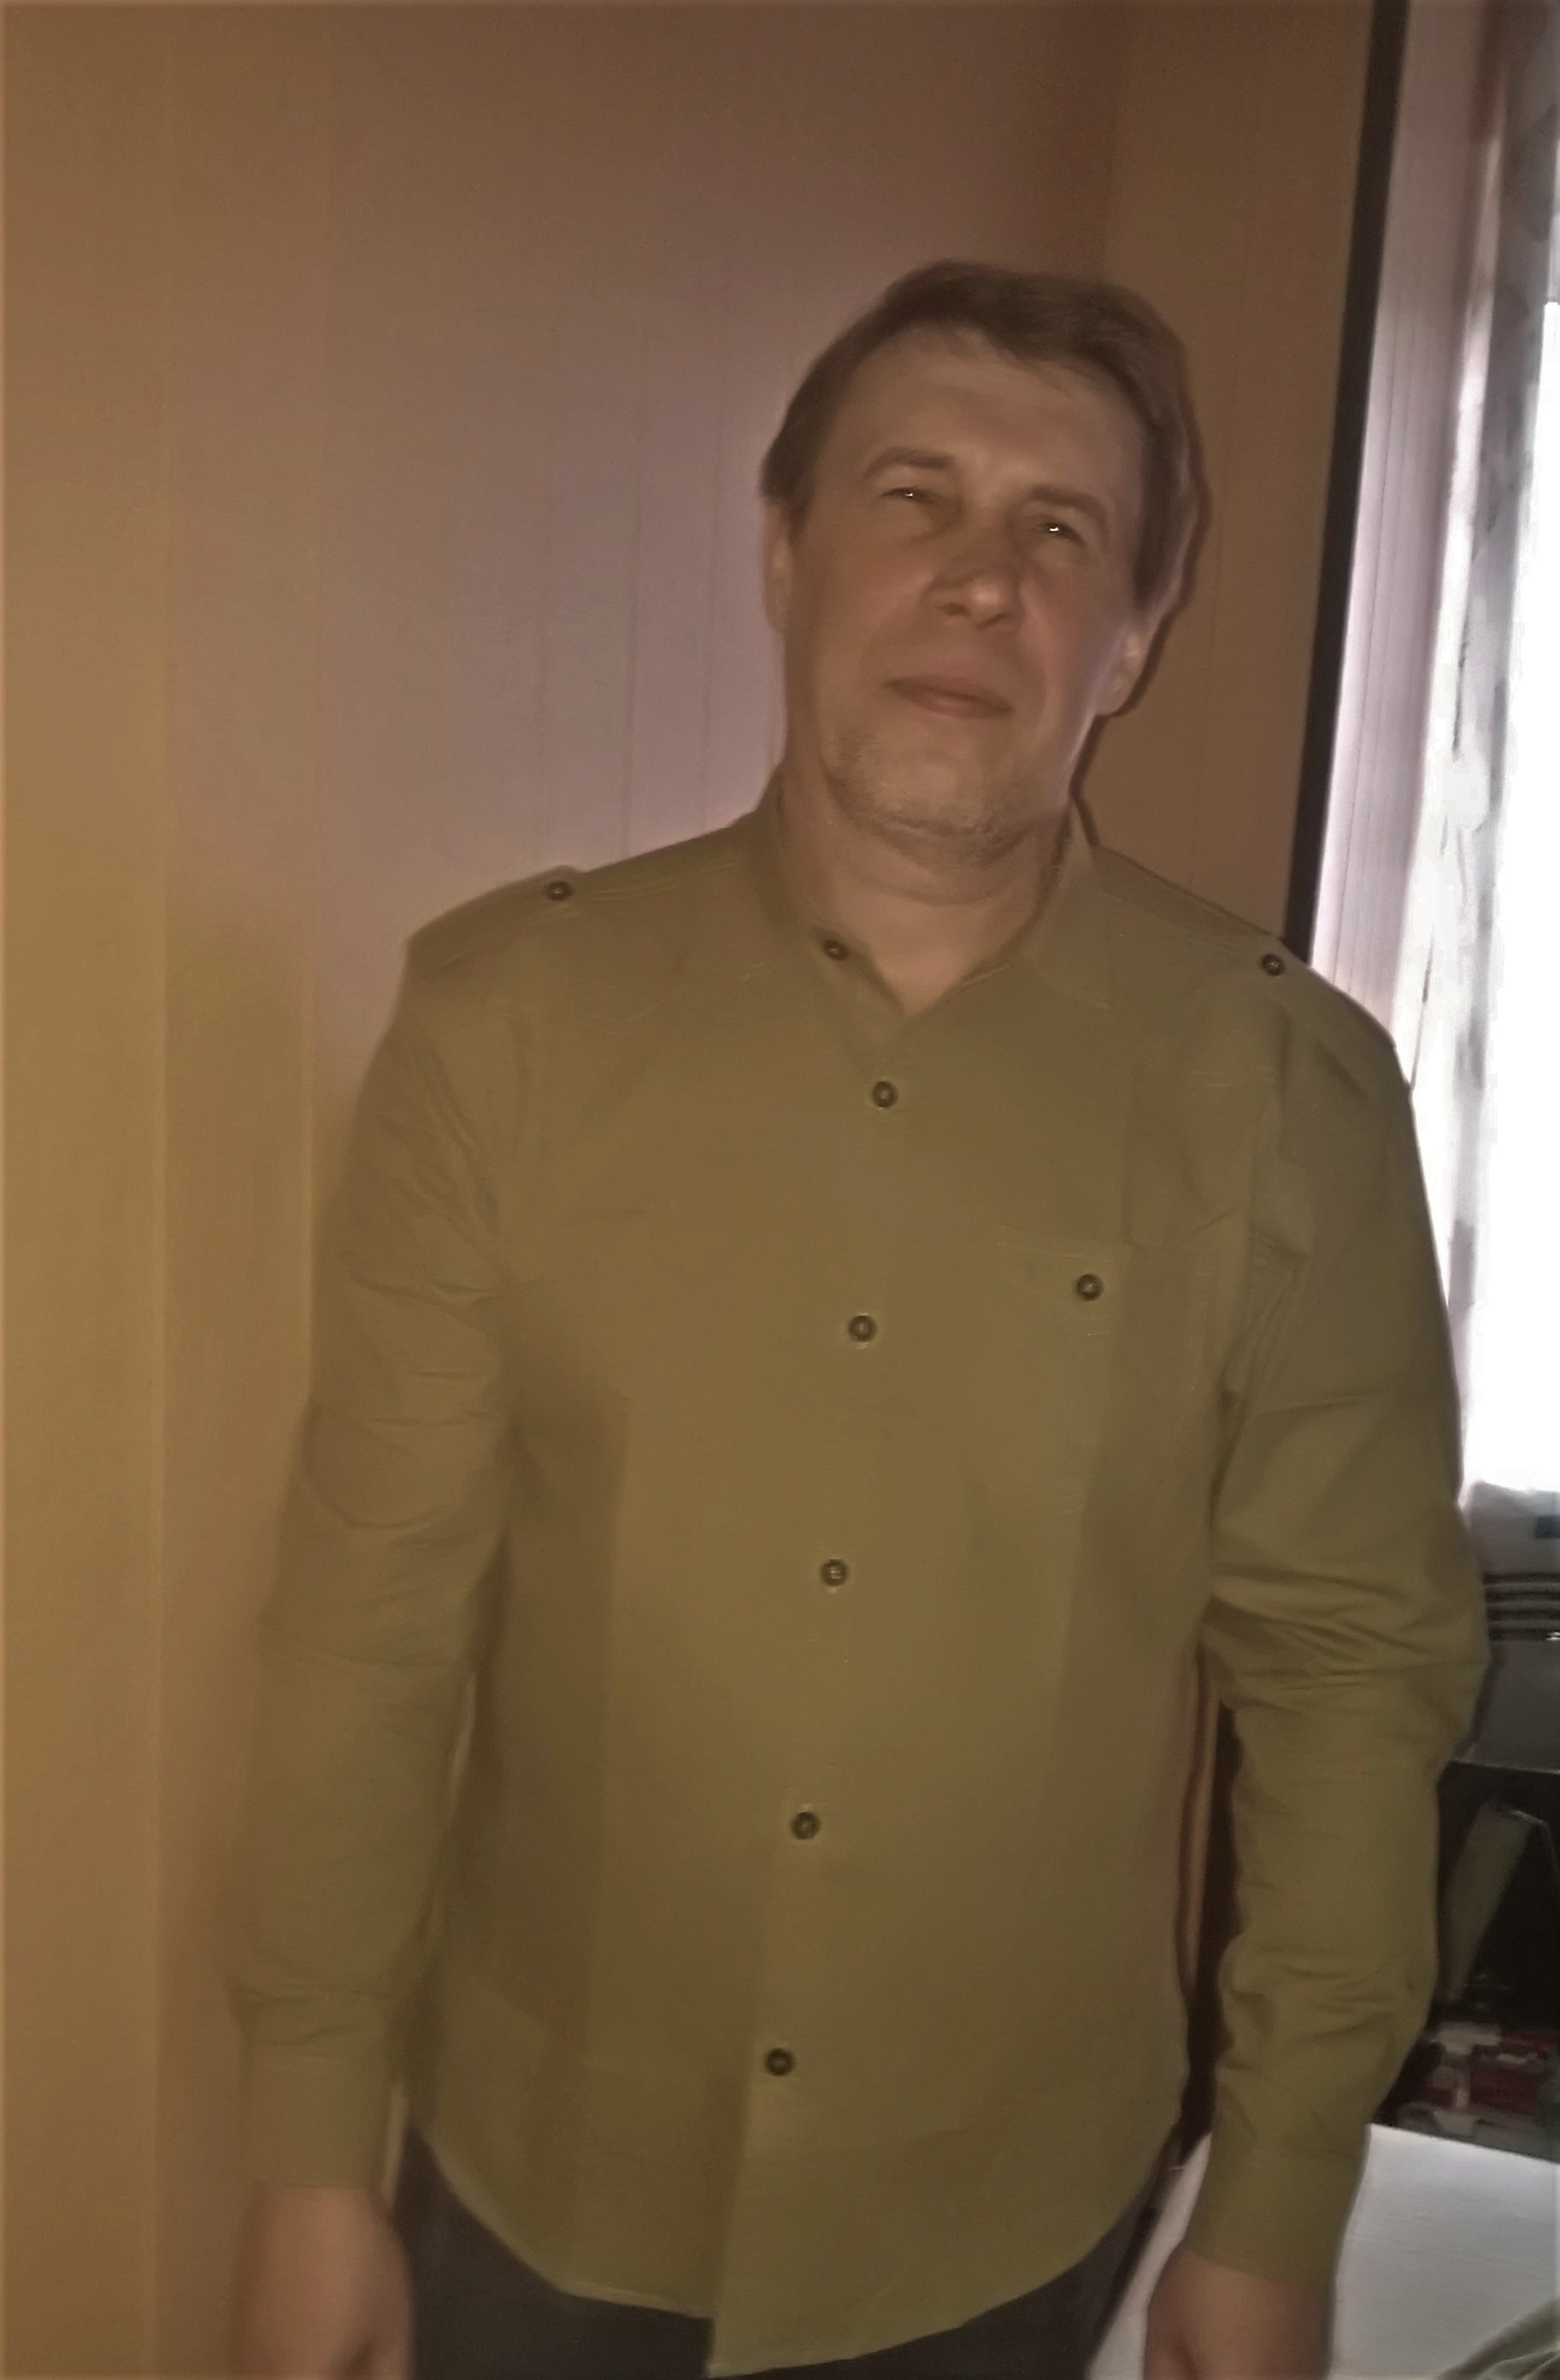shirts: (334, 743, 1428, 2284)
